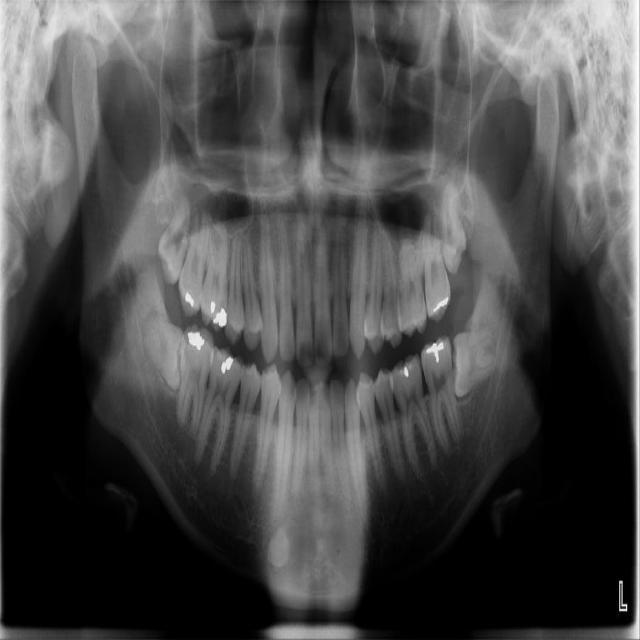3M ESPE Implant: (149, 183, 202, 288)
52: (176, 320, 224, 364), (380, 351, 429, 394), (414, 332, 458, 376), (209, 344, 246, 387), (199, 282, 229, 333), (176, 267, 204, 319), (424, 275, 453, 323), (162, 225, 173, 249)
73: (624, 622, 631, 623)
BioHorizons Implant: (419, 195, 453, 324)
BioLife Implant: (433, 172, 470, 278)
Biomet 3i Implant: (450, 324, 498, 398)
Blue Sky Bio Implant: (417, 332, 465, 457)
Caries: (174, 192, 215, 320)
Implant: (175, 322, 216, 437)
Keystone Dental Implant: (136, 308, 198, 394)
